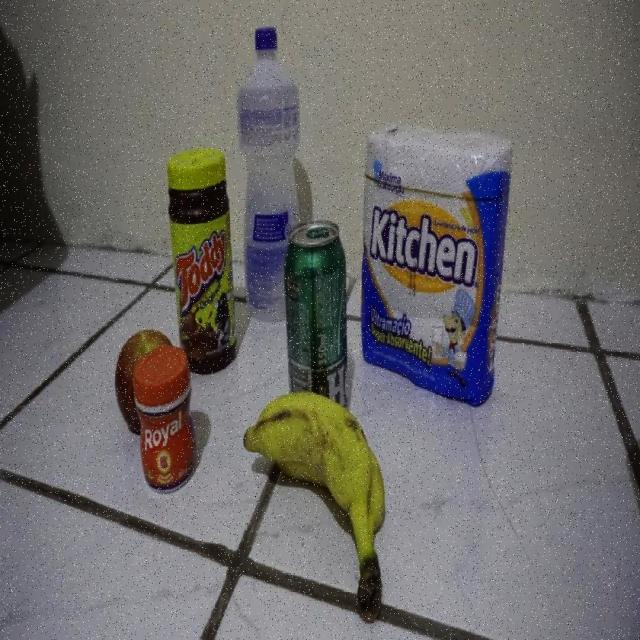AlcoholBottle: (236, 27, 302, 318)
Apple: (116, 328, 176, 436)
Banana: (245, 392, 389, 624)
BeerCan: (284, 220, 350, 410)
ChocolatePowder: (168, 148, 237, 375)
Napkin: (364, 122, 512, 406)
Yeast: (133, 349, 197, 492)
